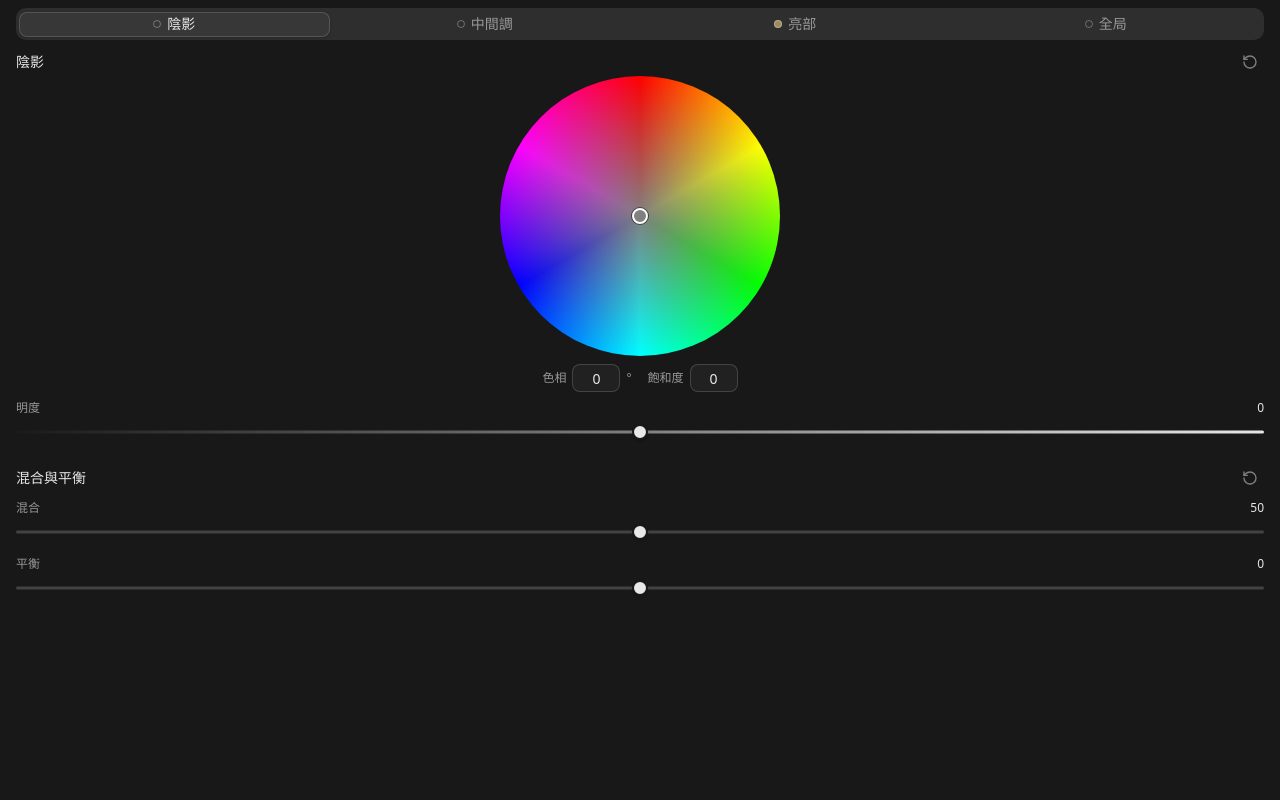
Scenario: GradingPanel › shows the wheel and luminance of the selected range
The image size is (1280, 800).
Check: the element named "陰影色輪" is shown, box left=500, top=76, right=780, bottom=356
Click the tab "亮部" at (795, 24), box left=640, top=12, right=950, bottom=36
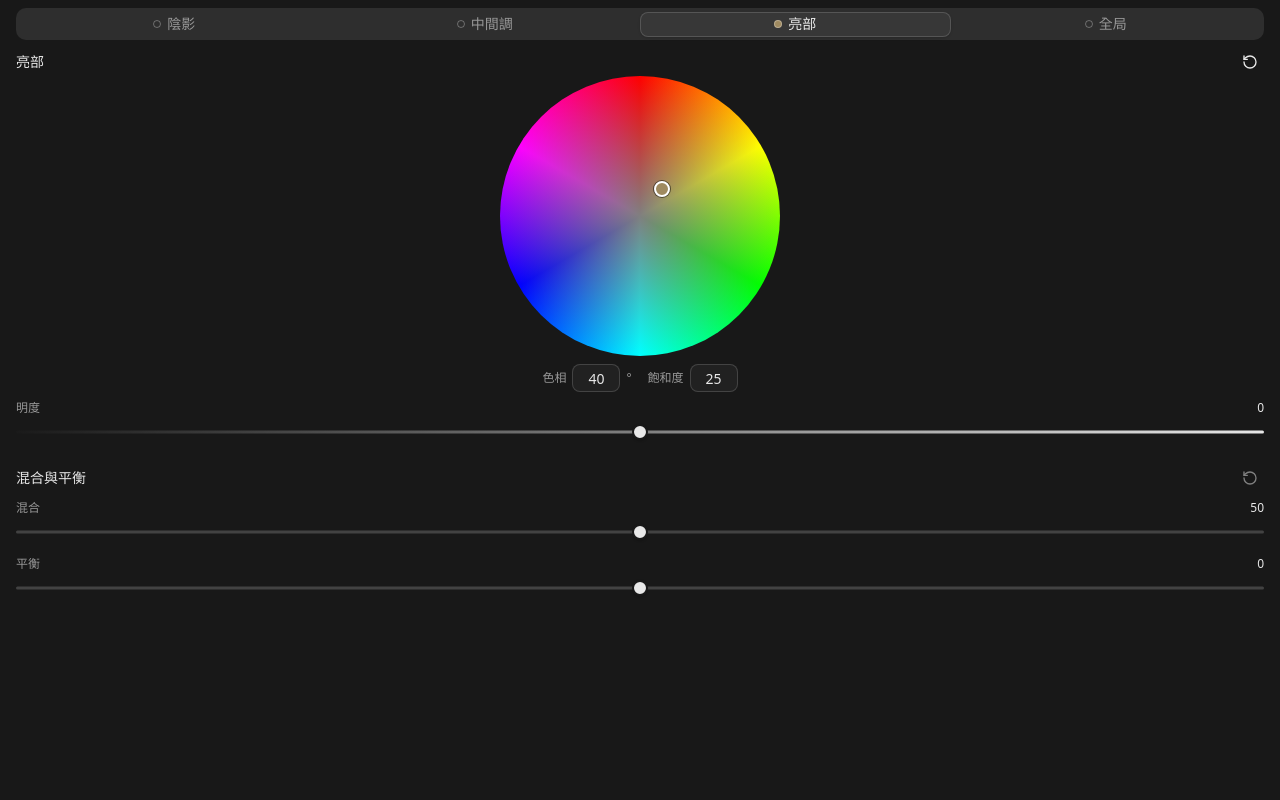
Check: the element named "亮部色輪" is shown, box left=500, top=76, right=780, bottom=356
Check: the field labelled "色相" holds "40", box left=572, top=364, right=620, bottom=392
